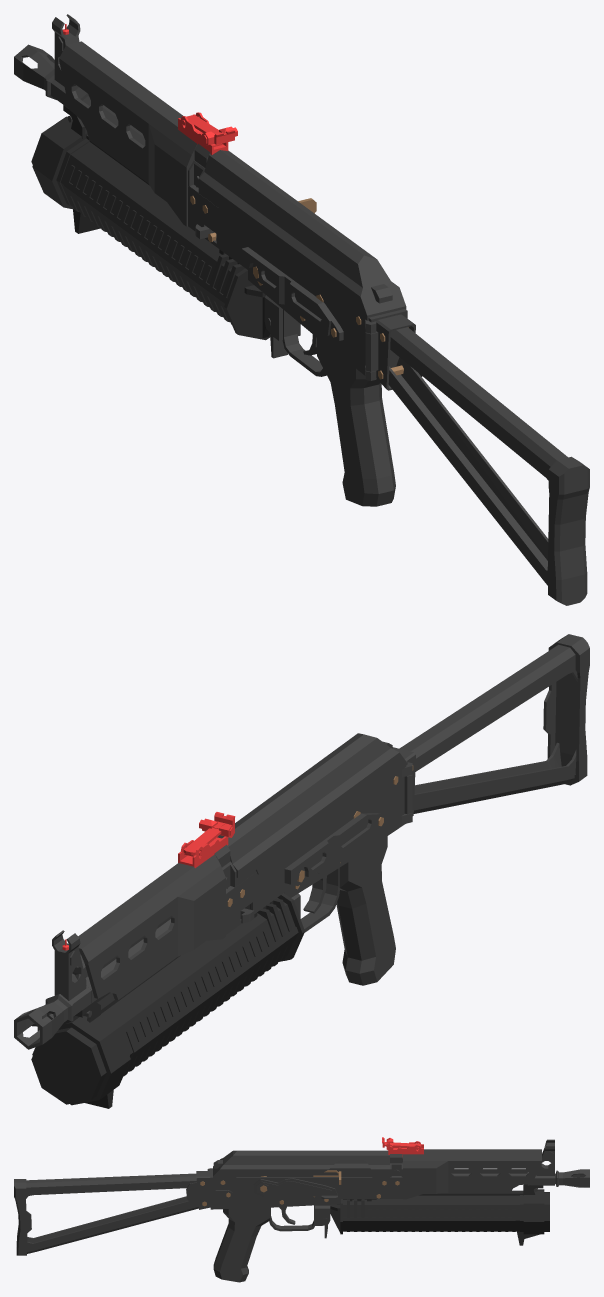
The model's file is subfusil_14.glb.
The picture shows the model from 3 angles, top to bottom: view 1: azimuth 30°, elevation 25°; view 2: azimuth 150°, elevation 25°; view 3: azimuth 270°, elevation 25°; orthographic projection. The views are drawn at different scales.
Visible parts, largest first — view 1: p69_mag, p27_paint, p6_paint, p64_paint, p52_paint, p65_paint, p15_paint, p68_paint, p38_paint, p0_paint, p63_paint, p49_paint (+1 smaller); view 2: p69_mag, p6_paint, p27_paint, p52_paint, p65_paint, p15_paint, p64_paint, p68_paint, p38_paint, p0_paint, p3_paint, p49_paint (+1 smaller); view 3: p69_mag, p6_paint, p15_paint, p27_paint, p52_paint, p64_paint, p65_paint, p68_paint, p41_paint, p0_paint, p63_paint, p34_paint (+5 smaller).
Part boxes in pixels (bbox=[...]): p69_mag: bbox=[31, 105, 270, 340]; p27_paint: bbox=[199, 150, 406, 320]; p6_paint: bbox=[59, 41, 197, 226]; p64_paint: bbox=[388, 357, 548, 585]; p52_paint: bbox=[317, 338, 395, 506]; p65_paint: bbox=[390, 327, 567, 480]; p15_paint: bbox=[188, 186, 407, 378]; p68_paint: bbox=[547, 456, 589, 605]; p38_paint: bbox=[241, 247, 343, 340]; p0_paint: bbox=[14, 44, 145, 146]; p63_paint: bbox=[376, 314, 422, 390]; p49_paint: bbox=[282, 309, 326, 376]; p69_mag: bbox=[31, 893, 304, 1108]; p6_paint: bbox=[68, 854, 225, 1000]; p27_paint: bbox=[217, 733, 406, 879]; p52_paint: bbox=[336, 836, 395, 985]; p65_paint: bbox=[399, 644, 577, 771]; p15_paint: bbox=[226, 761, 407, 934]; p64_paint: bbox=[413, 742, 576, 813]; p68_paint: bbox=[543, 634, 589, 785]; p38_paint: bbox=[284, 813, 384, 885]; p0_paint: bbox=[14, 917, 170, 1049]; p3_paint: bbox=[52, 930, 86, 1000]; p49_paint: bbox=[300, 868, 339, 932]; p69_mag: bbox=[330, 1184, 549, 1245]; p6_paint: bbox=[403, 1149, 541, 1199]; p15_paint: bbox=[210, 1168, 402, 1209]; p27_paint: bbox=[213, 1150, 389, 1180]; p52_paint: bbox=[213, 1207, 269, 1282]; p64_paint: bbox=[27, 1196, 198, 1253]; p65_paint: bbox=[26, 1173, 196, 1198]; p68_paint: bbox=[14, 1179, 31, 1255]; p41_paint: bbox=[256, 1181, 331, 1195]; p0_paint: bbox=[453, 1169, 589, 1187]; p63_paint: bbox=[186, 1171, 210, 1209]; p34_paint: bbox=[313, 1160, 372, 1176].
Size of the model in its own units: 0.0621 by 0.1764 by 0.66.
